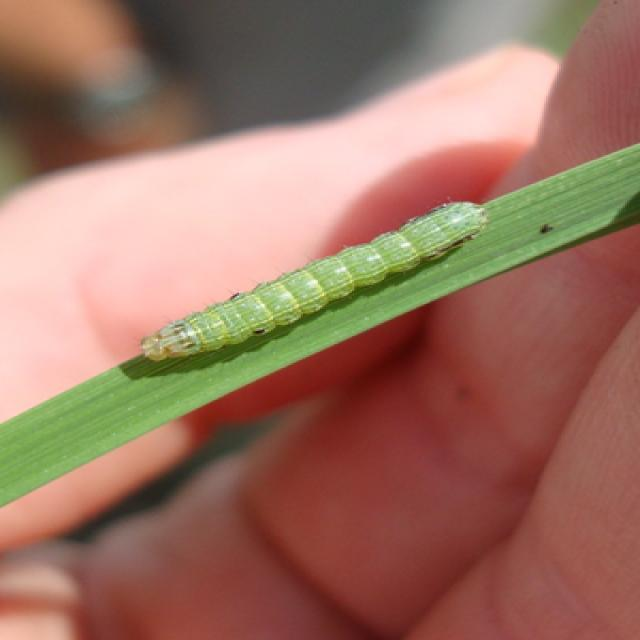Army Worm: (127, 178, 507, 363)
